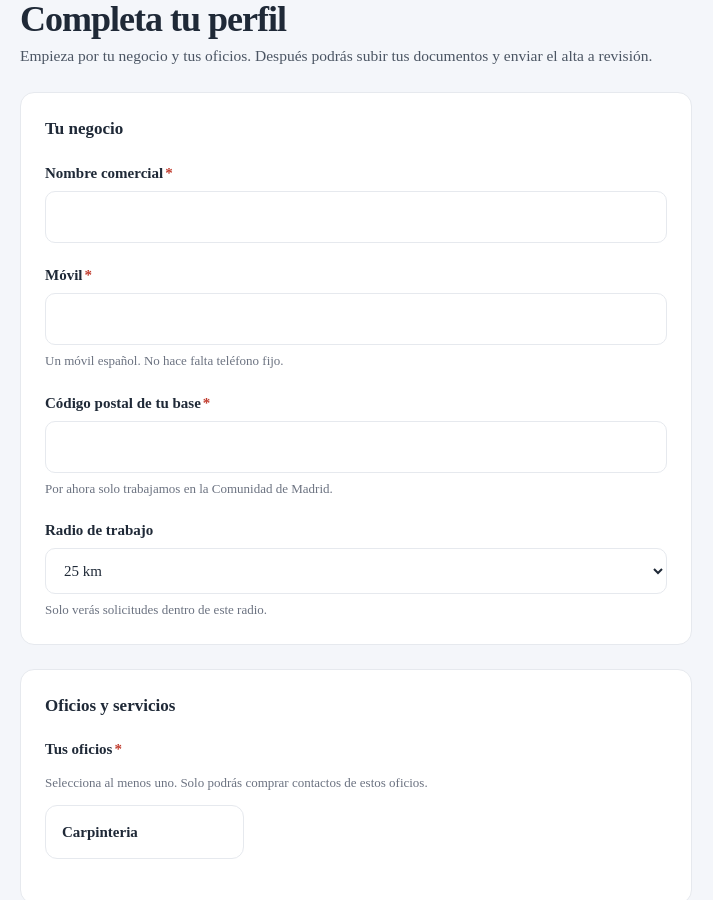
Test case: ProfileForm: errores al guardar › marks the tax id field when the backend rejects it
Type "Reformas Lopez" into the field labelled "Nombre comercial*" at (356, 217), box [45,191,667,243]
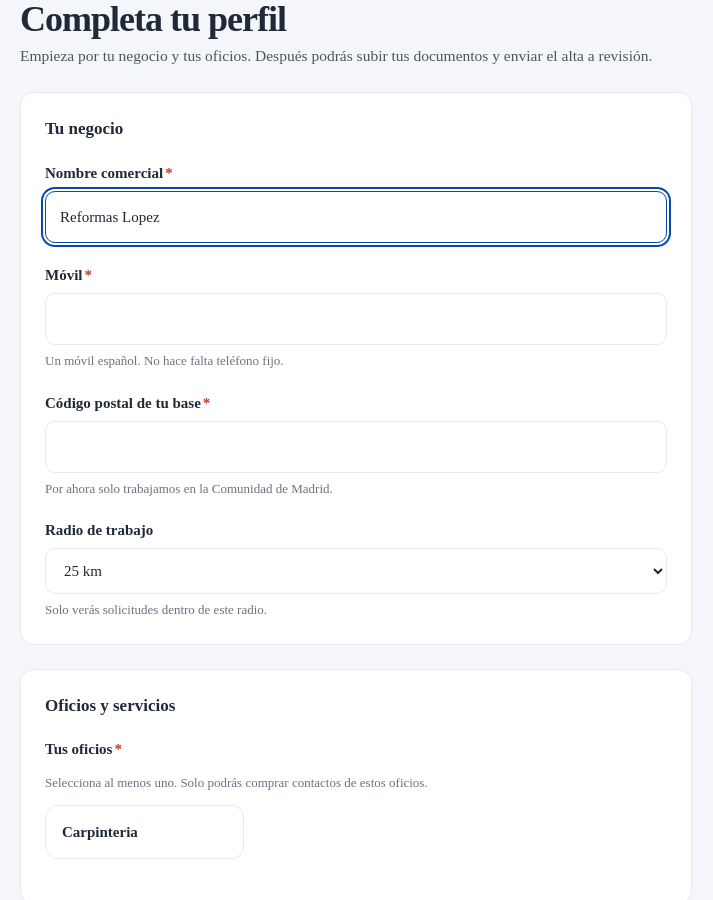
Type "612345678" into the field labelled "Móvil*" at (356, 319), box [45,293,667,345]
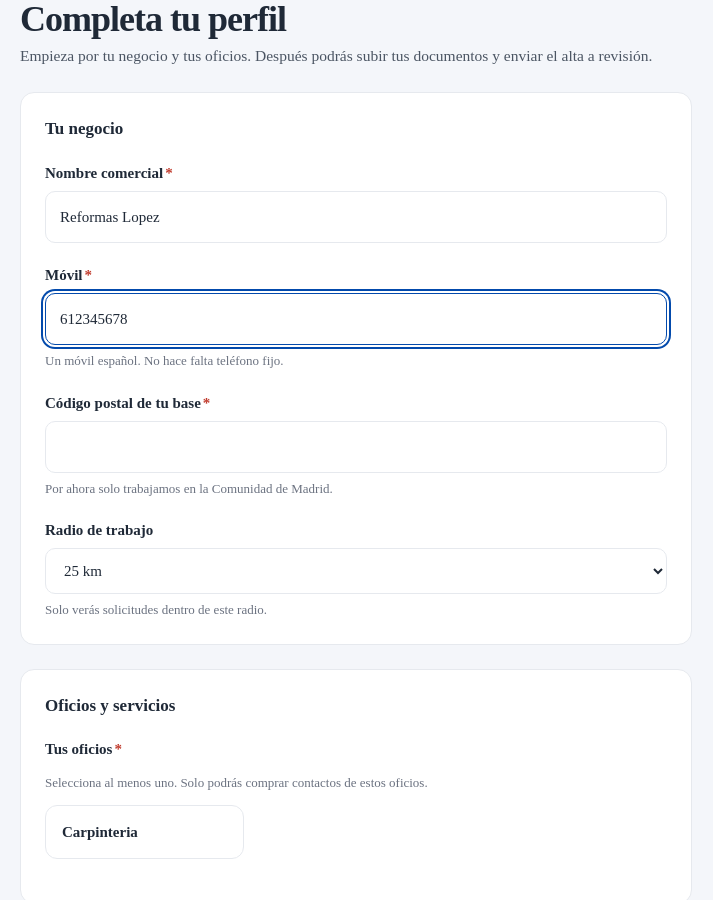
Type "28001" into the field labelled "Código postal de tu base*" at (356, 447), box [45,421,667,473]
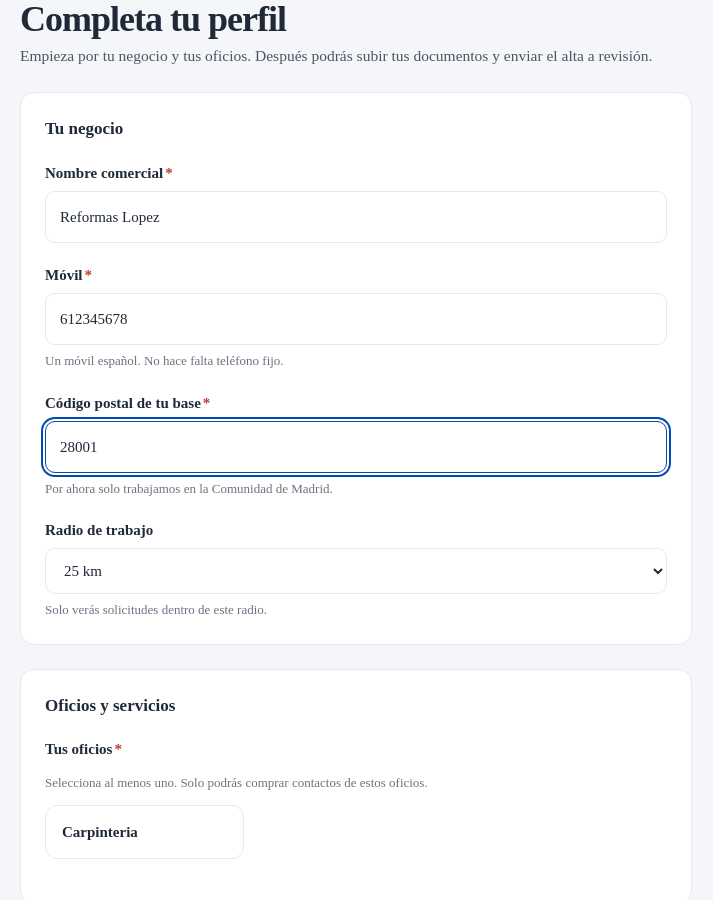
Click the checkbox labelled "Carpinteria" at (145, 832), box [45,805,244,859]
(page scrolled)
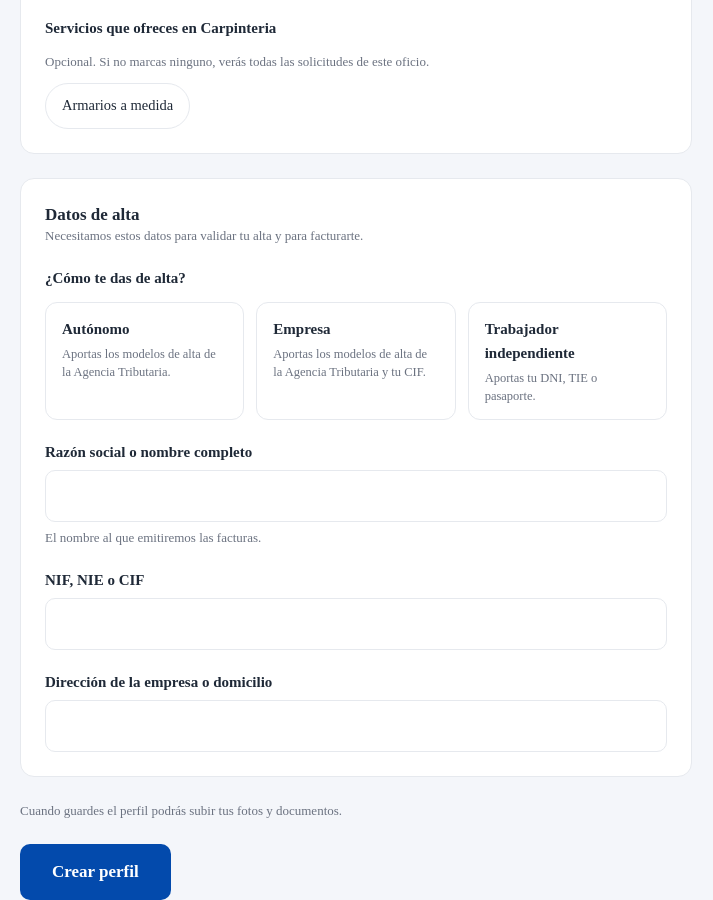
Click the button "Crear perfil" at (95, 872), box [20,844,171,899]
(page scrolled)
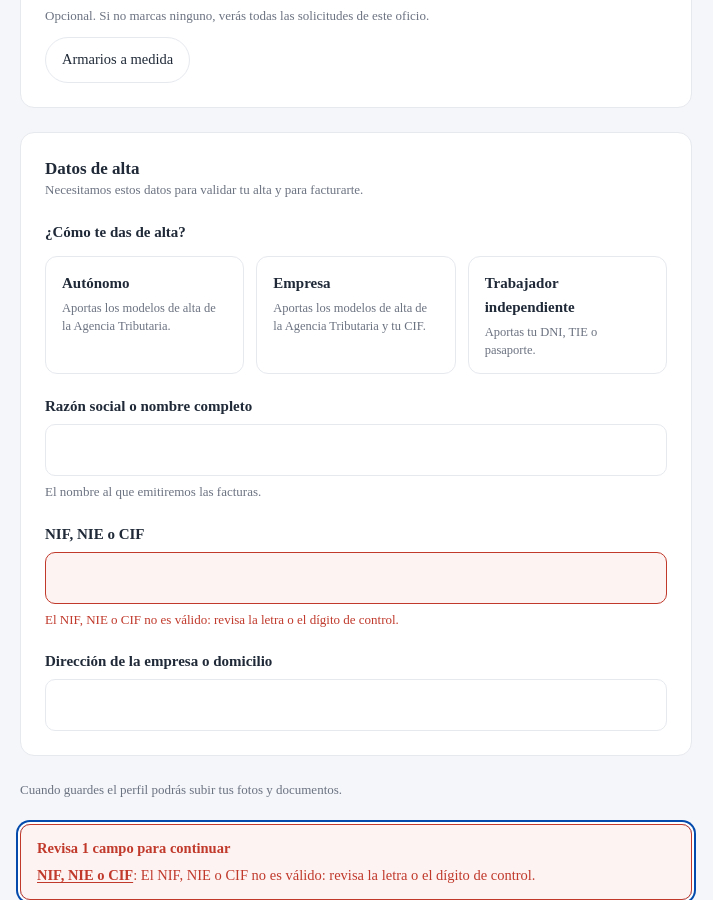
expect the text "El NIF, NIE o CIF no es válido: revisa la letra o el dígito de control." is shown: met, box [141,867,536,883]
expect the text "El NIF, NIE o CIF no es válido: revisa la letra o el dígito de control." is shown once: met, box [45,612,399,627]
